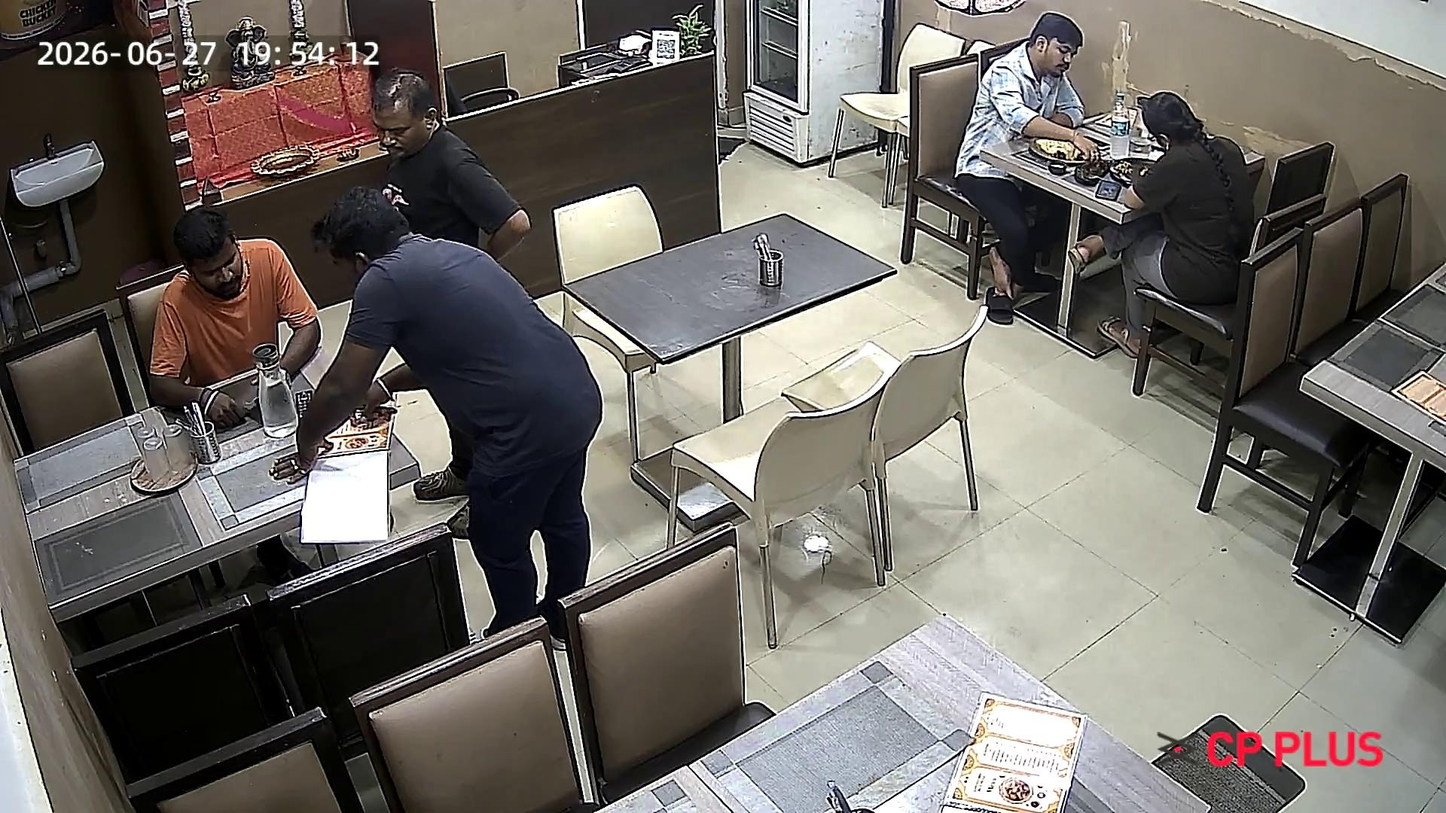clean: (447, 612, 1241, 813), (558, 210, 898, 366)
occupied: (0, 223, 391, 544), (911, 27, 1276, 240)
